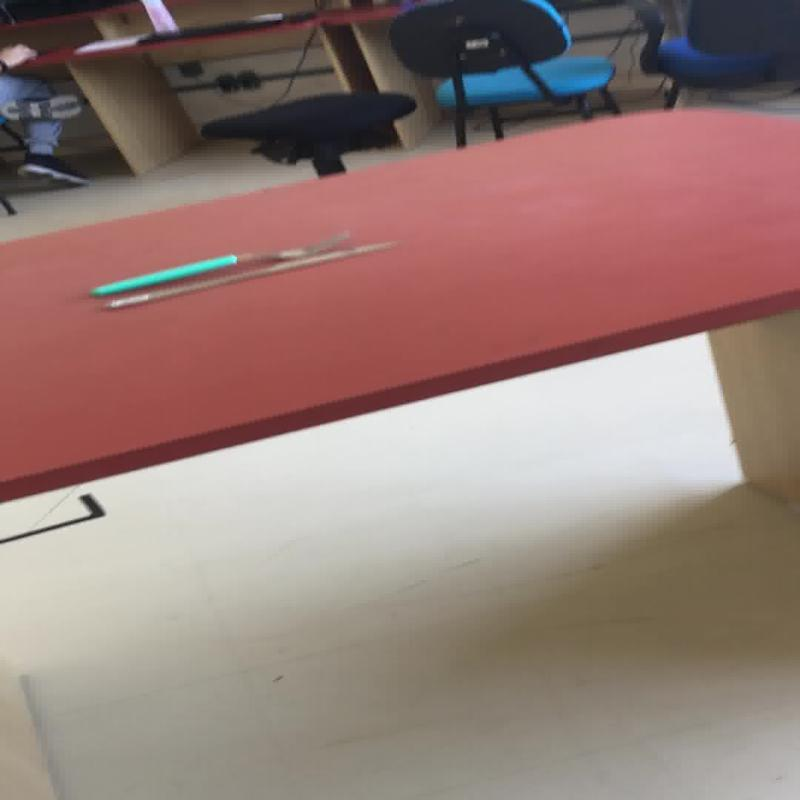knife: (88, 231, 399, 310), (86, 230, 350, 296)
